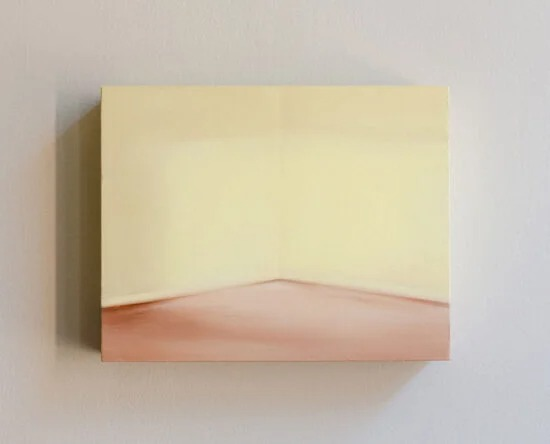painting: (100, 85, 451, 362)
